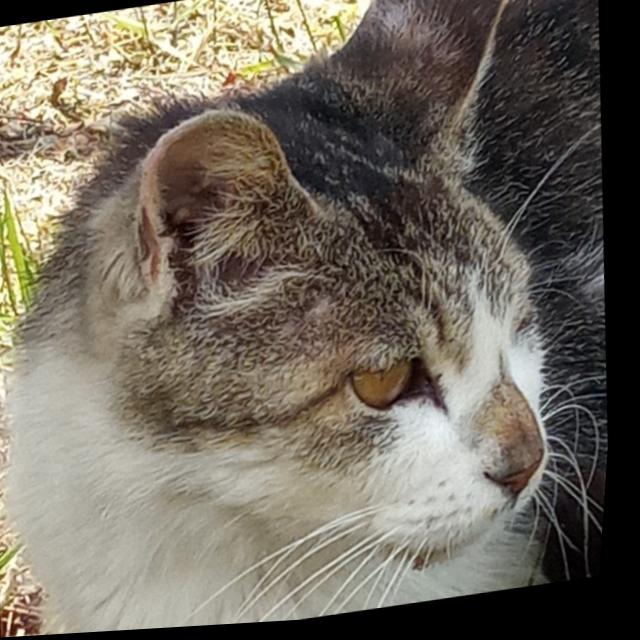animals: (0, 0, 615, 640)
